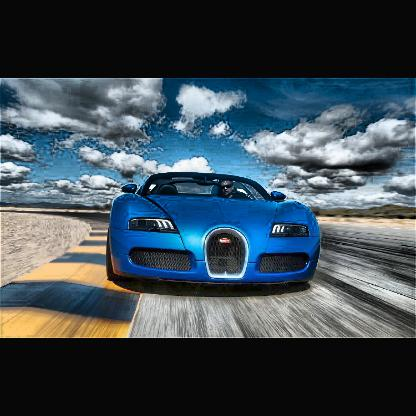Bugatti Veyron 16-4 Coupe 2009: (106, 171, 322, 290)
